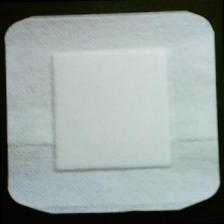Dressing: (2, 10, 223, 217)
